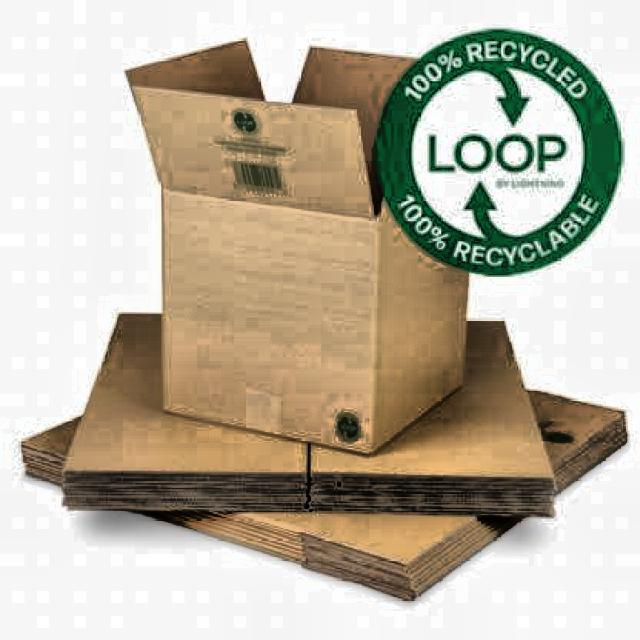Cardbox: (119, 25, 477, 458)
